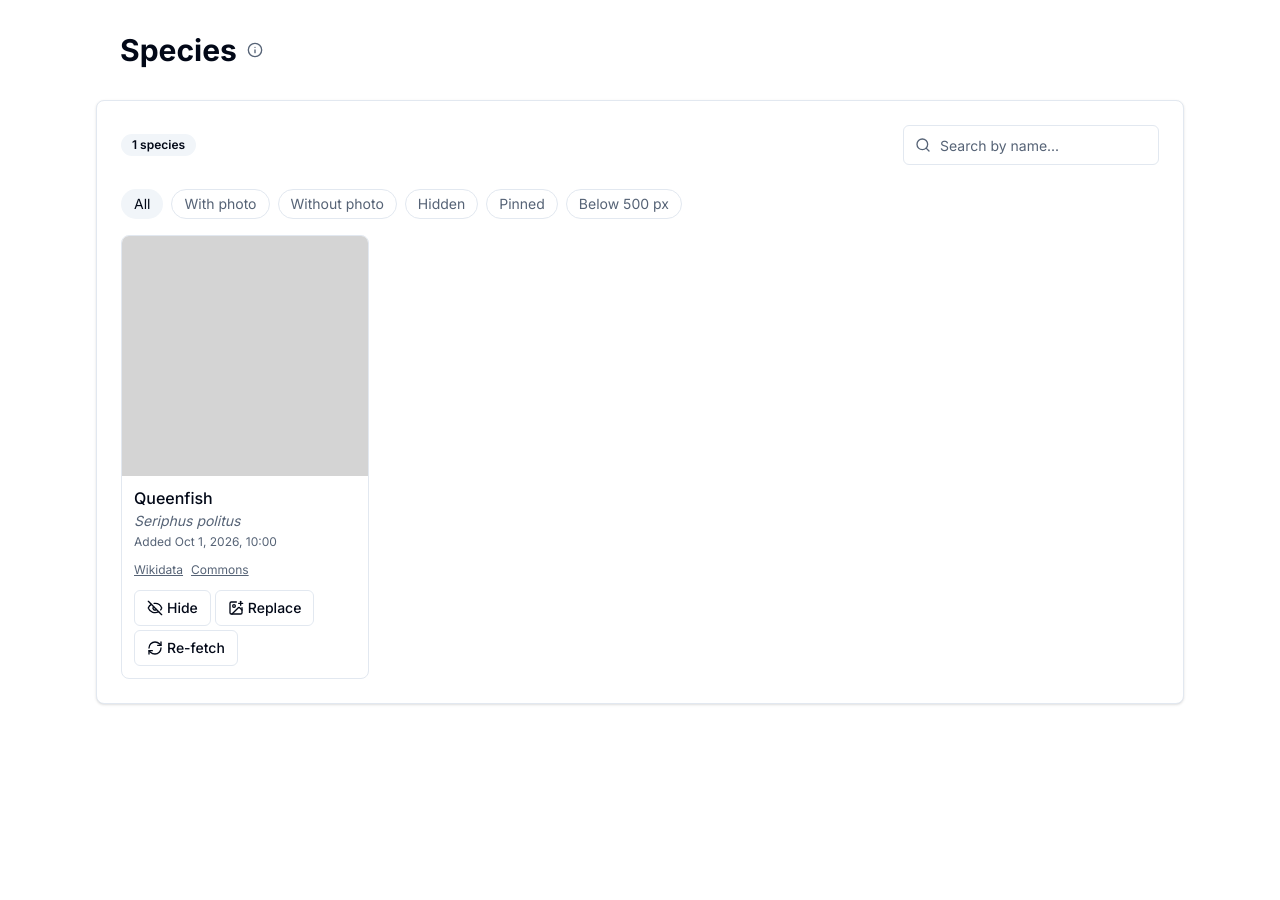
Test case: hiding a photo › asks first, then flips the card without reading the list again
What coordinates should you click on to do the following:
click the button "Hide"
I would click on:
 (172, 608)
Its box is [134,590,211,626].
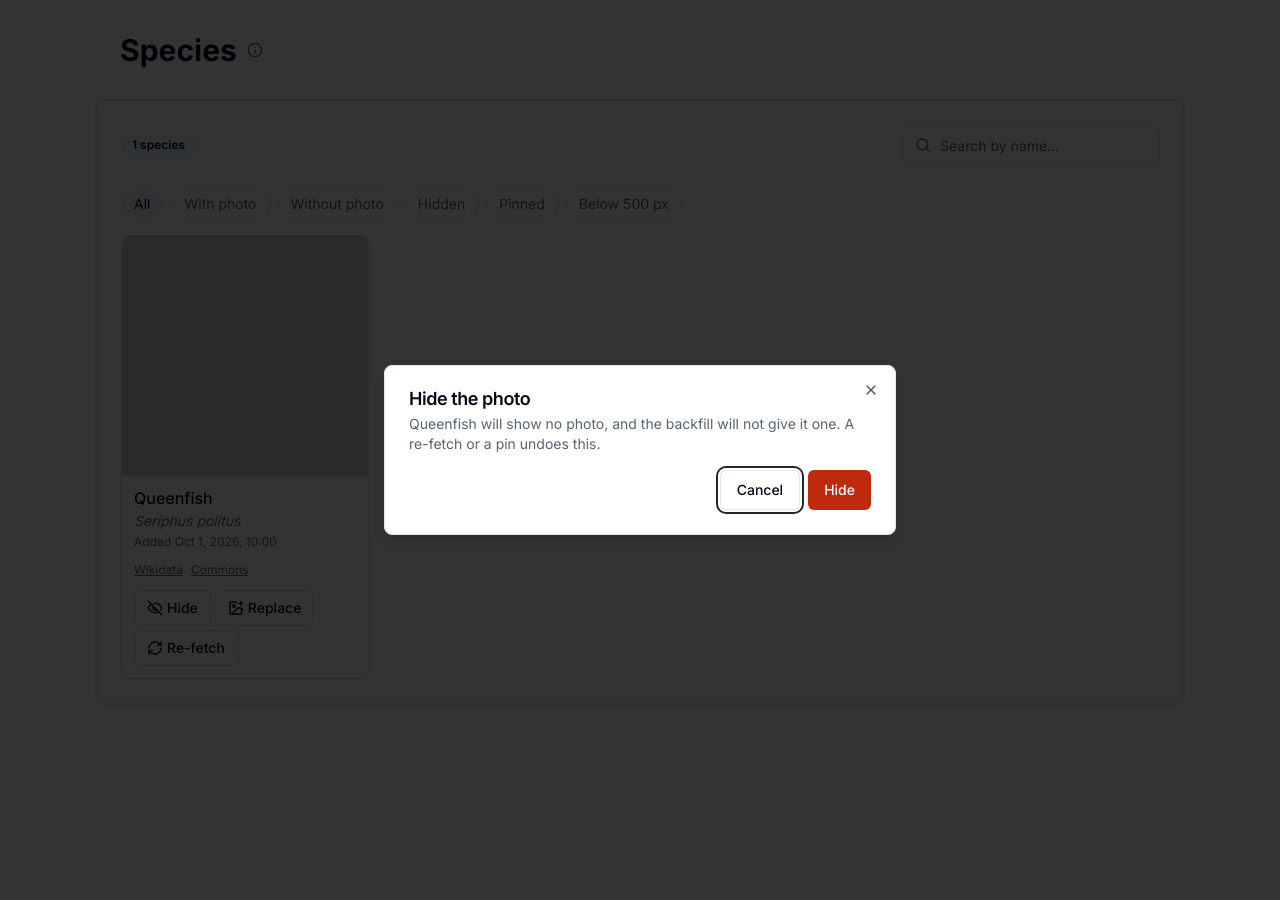
Expected: the dialog shows "Queenfish", [409,415,854,452]
What coordinates should you click on to do the following:
click the button "Hide"
I would click on:
 (840, 490)
Its box is [808,470,871,510].
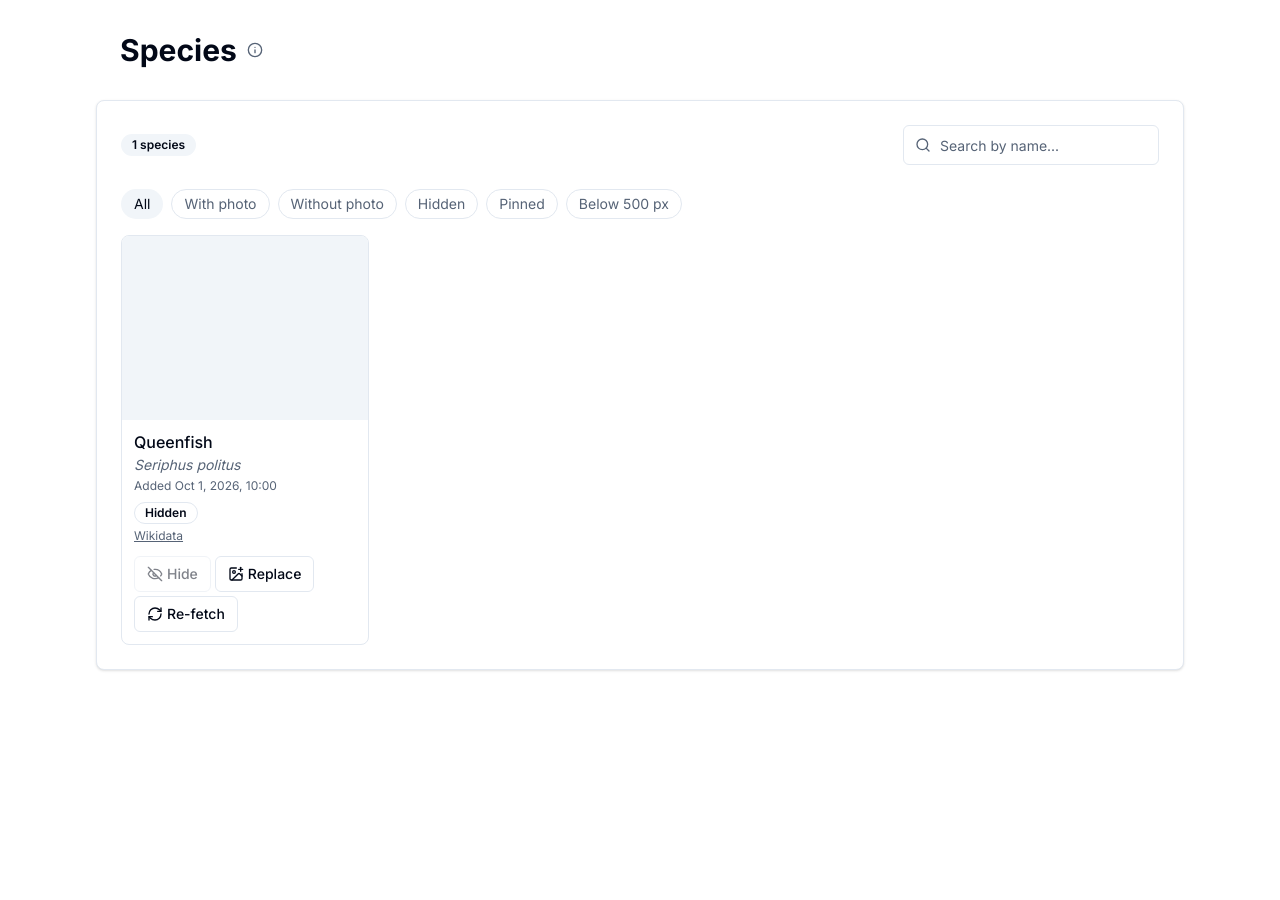
Expected: the text "Hidden" is shown, [134,502,198,524]
